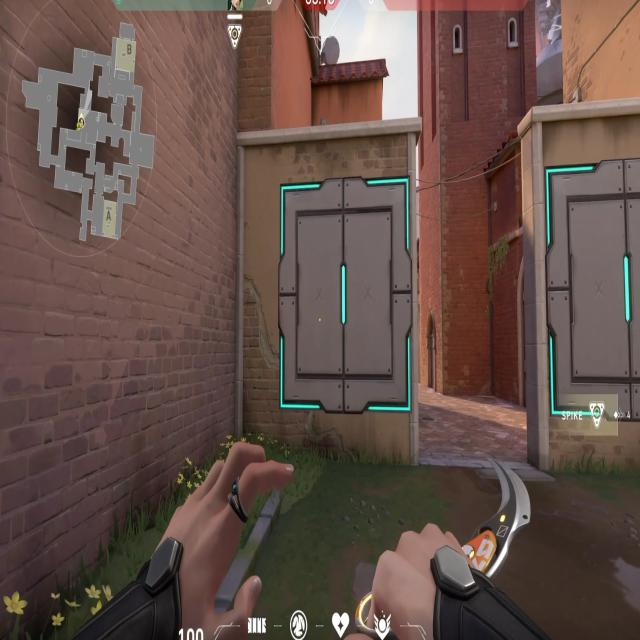Mid_Wall: (239, 128, 417, 469), (520, 103, 640, 475)
